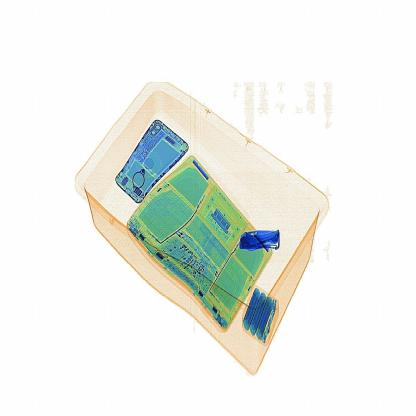knife: (236, 227, 288, 250)
